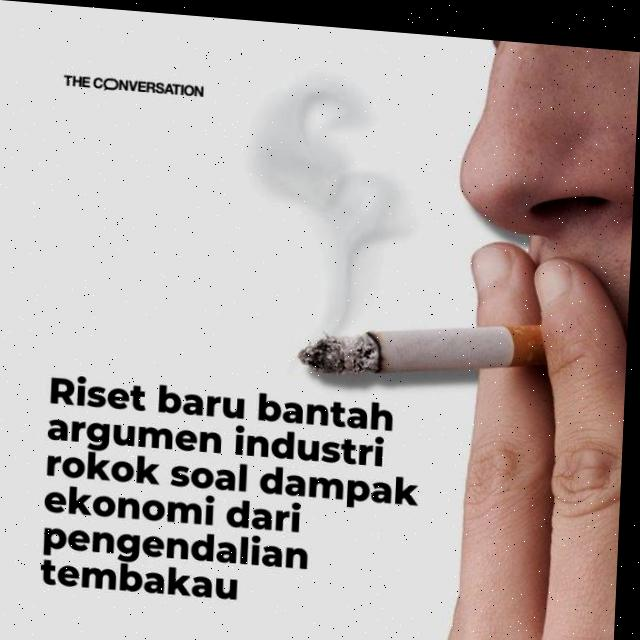cigarette: (304, 303, 552, 385)
